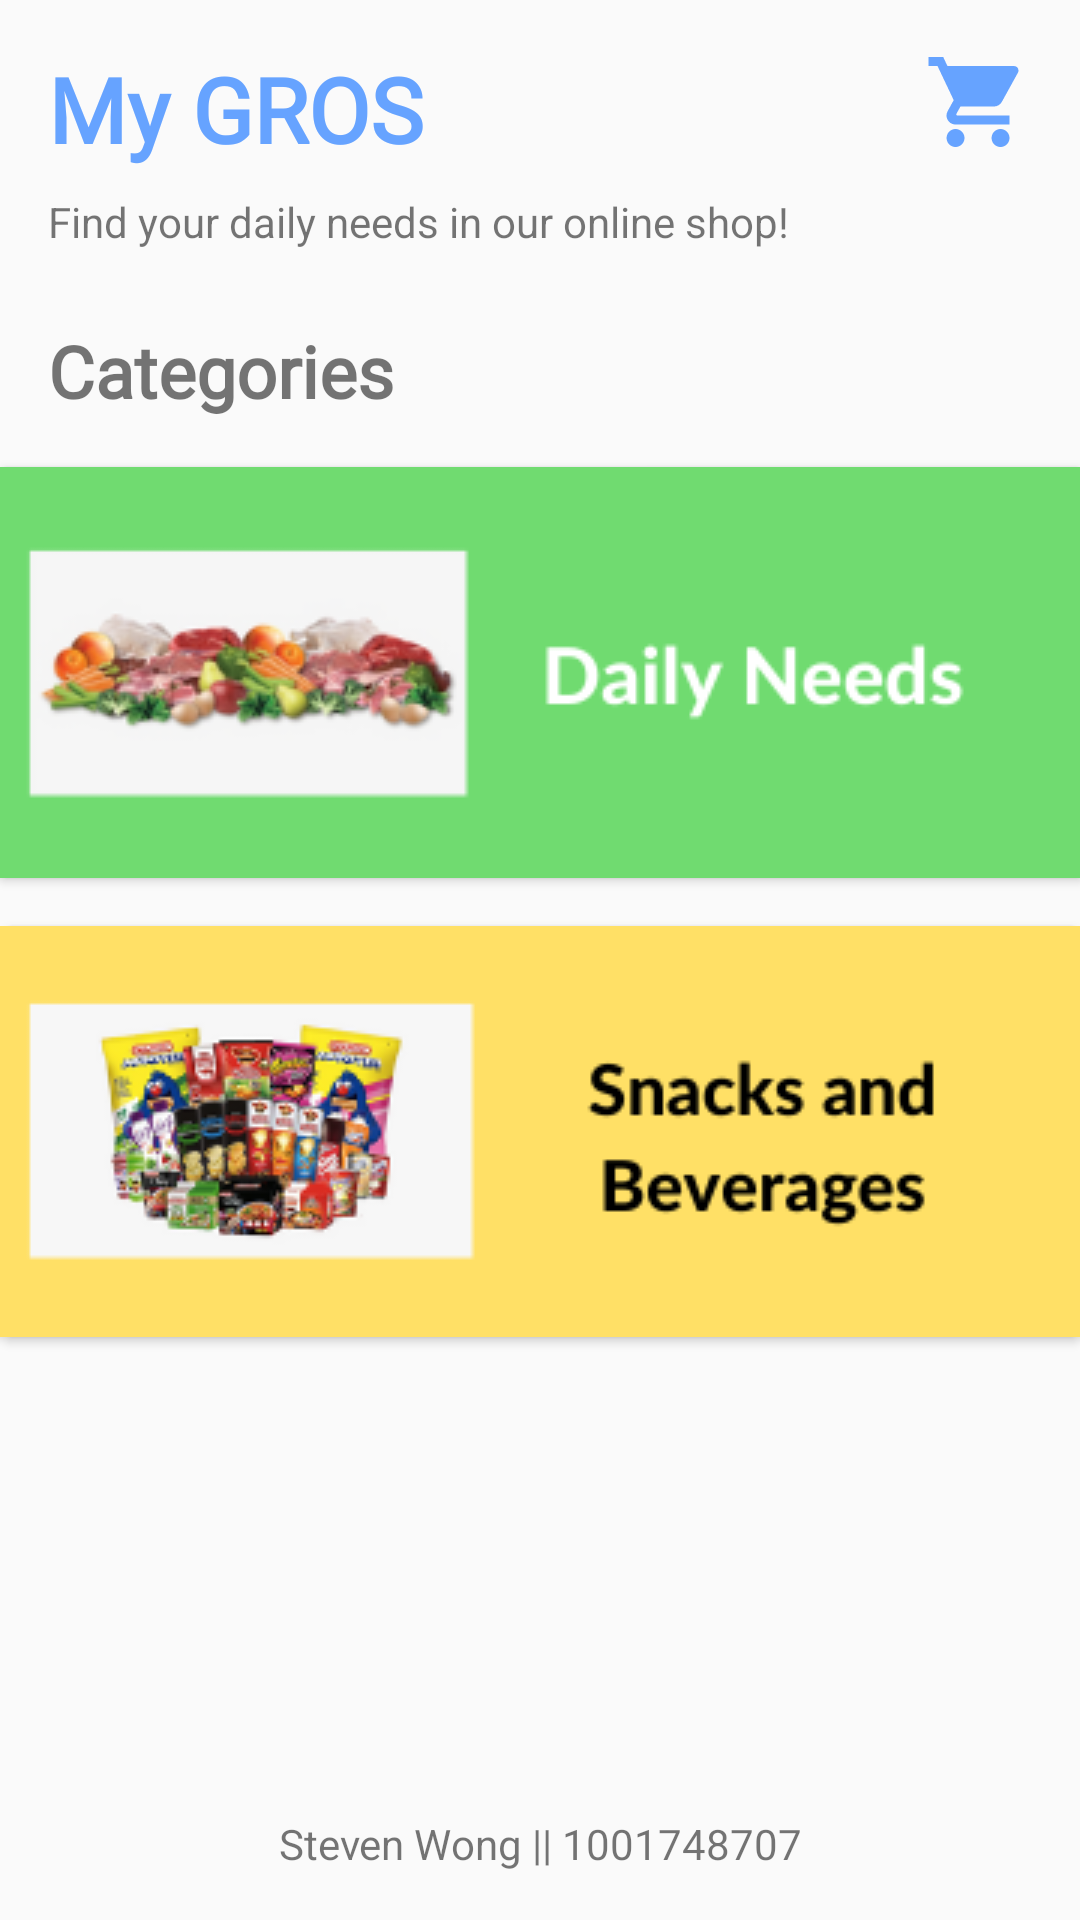

Where to tap for icons on this 1080×1920 app screen, as [x,y]:
shopping cart: [973,102]
